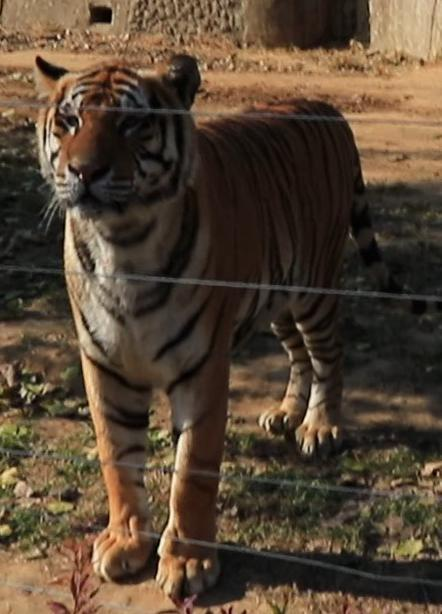tiger: (36, 54, 379, 599)
